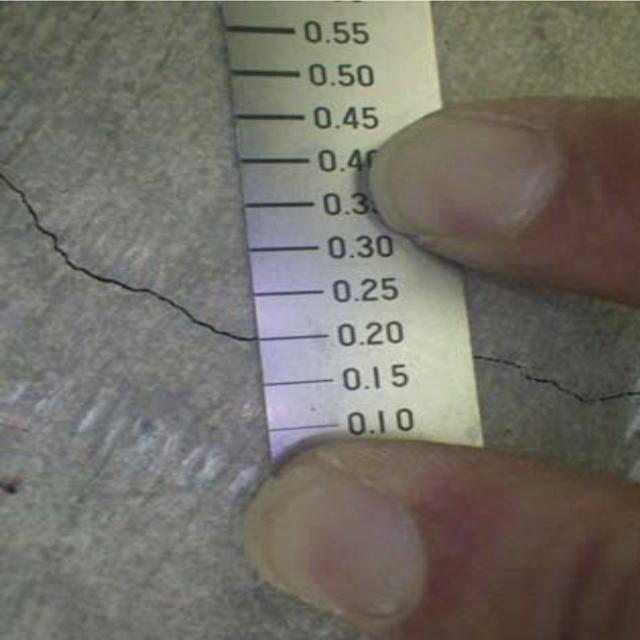crack: (0, 164, 256, 364), (475, 338, 640, 421)
